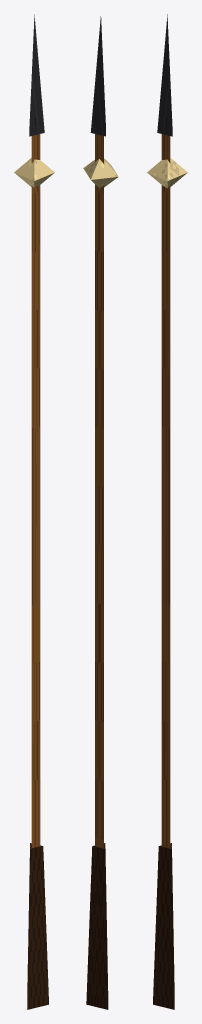
Rendered from silbadora.glb.
The picture shows the model from 3 angles, left to right: view 1: azimuth 90°, elevation 25°; view 2: azimuth 150°, elevation 25°; view 3: azimuth 270°, elevation 25°; orthographic projection.
Parts seen in each view (by area): view 1: astil, plumas, punta, silbato; view 2: astil, plumas, punta, silbato; view 3: astil, plumas, punta, silbato.
Boxes of the visible parts, <box> form: astil: <box>31,134,40,847</box>; plumas: <box>27,843,48,1009</box>; punta: <box>29,14,44,136</box>; silbato: <box>14,158,54,188</box>; astil: <box>95,134,103,848</box>; plumas: <box>86,843,108,1009</box>; punta: <box>90,16,105,136</box>; silbato: <box>83,158,118,188</box>; astil: <box>161,134,170,847</box>; plumas: <box>153,843,174,1009</box>; punta: <box>157,14,172,136</box>; silbato: <box>147,158,187,188</box>.
Bounding box in the file's own units: 0.03 × 0.8 × 0.03.
1 material, 1 textured.
